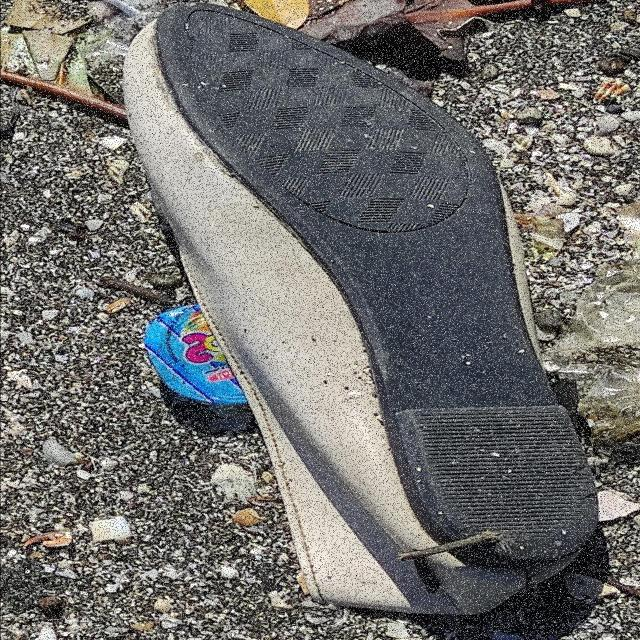rubber_waste: (123, 4, 601, 618)
